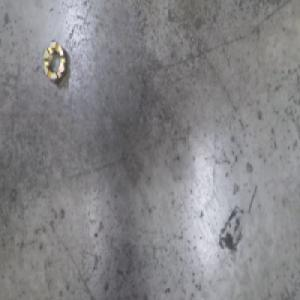Nut: (42, 38, 69, 88)
